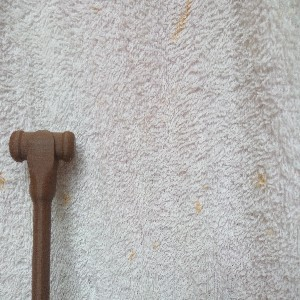palu: (8, 128, 75, 300)
